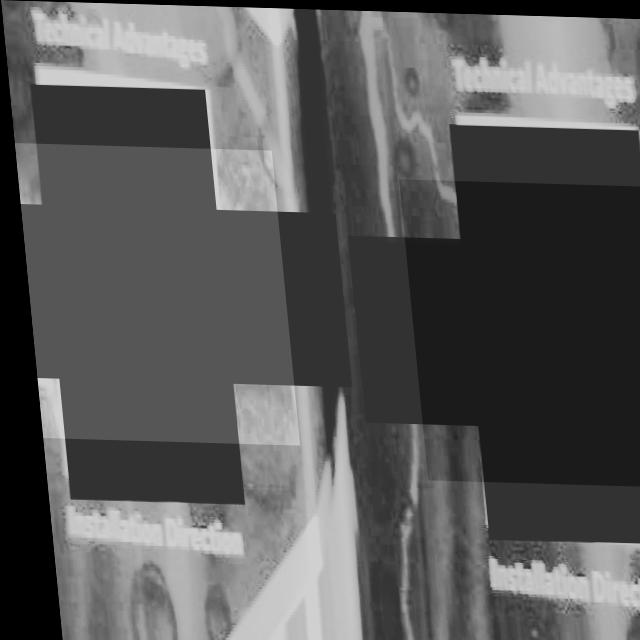qr_code: (11, 143, 290, 444), (395, 177, 640, 484)
